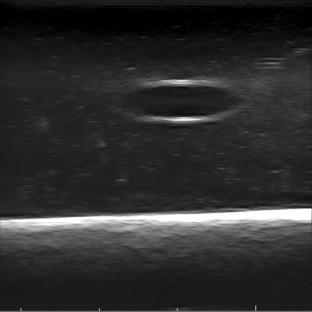vessel: (123, 79, 241, 123)
